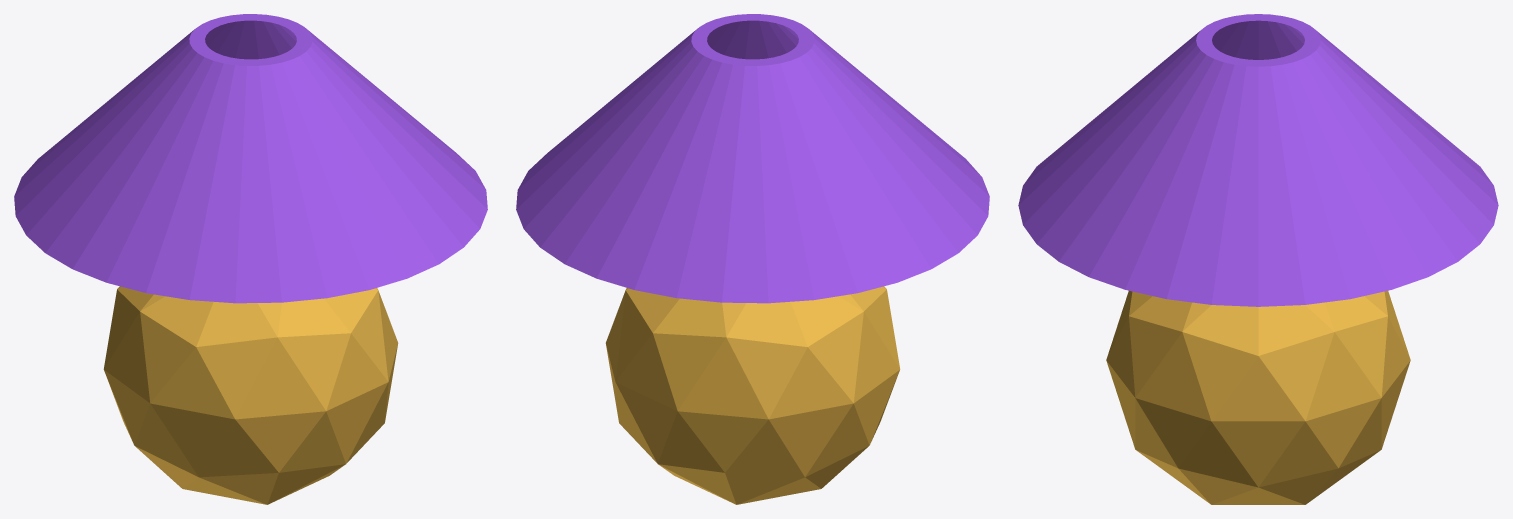
The model's file is lamp.fbx.
3 renders of one model, left to right at view 1: azimuth 30°, elevation 25°; view 2: azimuth 150°, elevation 25°; view 3: azimuth 270°, elevation 25°, orthographic.
Parts seen in each view (by area): view 1: Cone, Icosphere; view 2: Cone, Icosphere; view 3: Cone, Icosphere.
Part boxes in pixels (box(x1,y1,x2,y2)): Cone: box(14, 14, 487, 303); Icosphere: box(103, 286, 398, 504); Cone: box(516, 14, 989, 303); Icosphere: box(605, 286, 900, 504); Cone: box(1018, 14, 1498, 306); Icosphere: box(1106, 290, 1410, 504).
Bounding box in the file's own units: 820 × 824 × 820.
